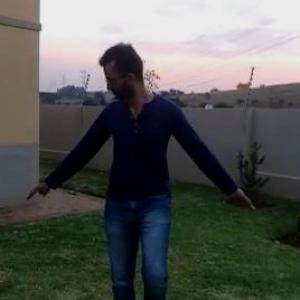land: (29, 38, 256, 299)
